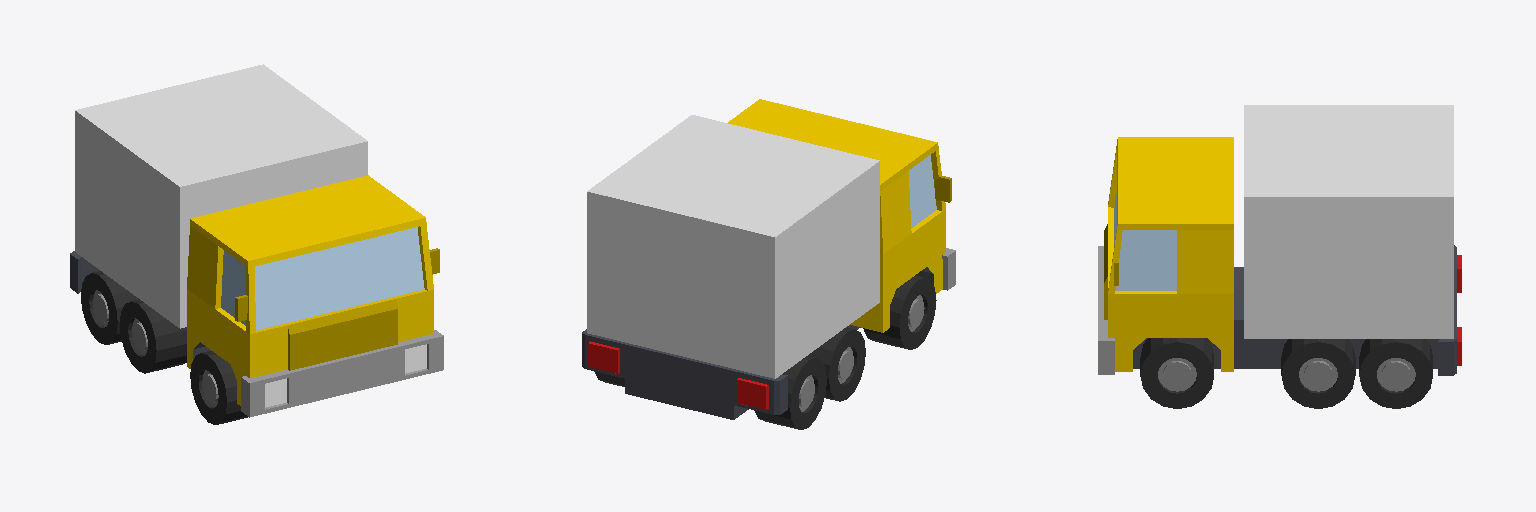
File: car_02.obj
The picture shows the model from 3 angles: view 1: azimuth 30°, elevation 25°; view 2: azimuth 150°, elevation 25°; view 3: azimuth 270°, elevation 25°; orthographic projection.
Parts seen in each view (by area): view 1: body, cargo, wheel.1, wheel, wheel.2, mirror; view 2: cargo, body, wheel, wheel.2, wheel.1; view 3: cargo, body, wheel, wheel.1, wheel.2.
Boxes of the visible parts, x1,y1,x2,y2 form: body: [70, 175, 443, 417]; cargo: [75, 64, 367, 328]; wheel.1: [120, 299, 186, 373]; wheel: [190, 351, 247, 424]; wheel.2: [81, 271, 138, 344]; mirror: [235, 248, 439, 321]; cargo: [587, 115, 879, 378]; body: [582, 99, 955, 419]; wheel: [863, 275, 936, 349]; wheel.2: [594, 356, 826, 429]; wheel.1: [808, 327, 865, 401]; cargo: [1244, 105, 1453, 338]; body: [1098, 137, 1461, 375]; wheel: [1140, 338, 1213, 408]; wheel.1: [1281, 339, 1355, 408]; wheel.2: [1359, 339, 1432, 408].
Bounding box in the file's own units: 100 × 99.43 × 156.